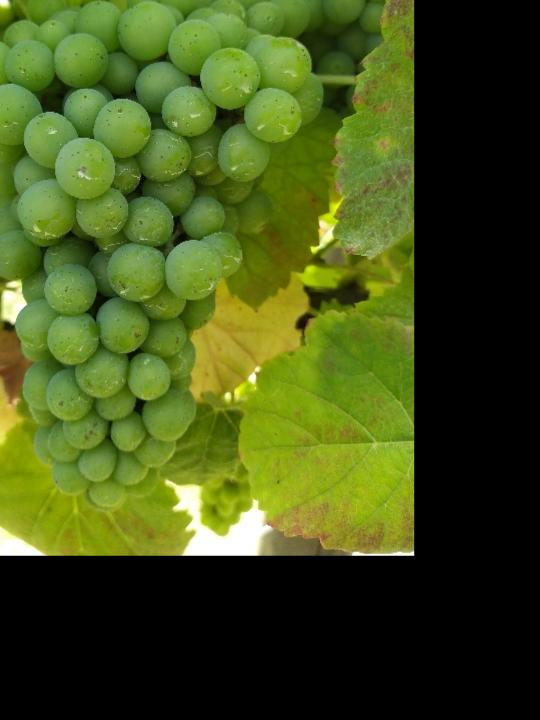grape: (0, 0, 327, 512)
